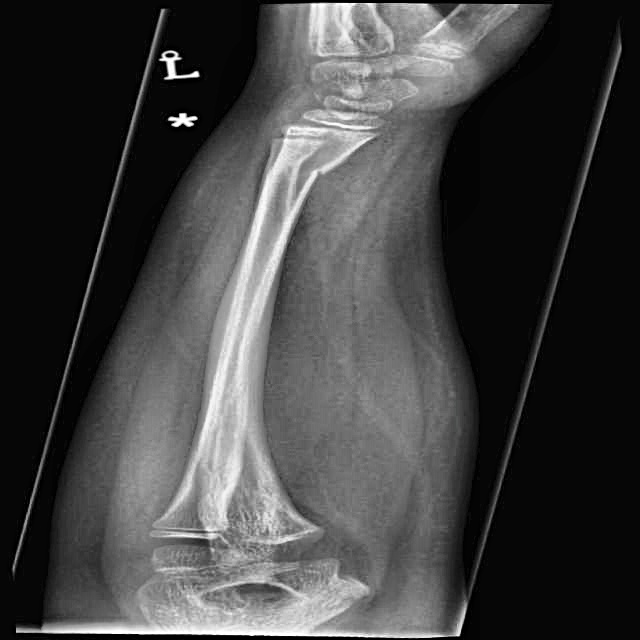Greenstick: (237, 142, 384, 195)
